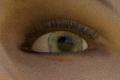eye: (49, 32, 82, 54)
